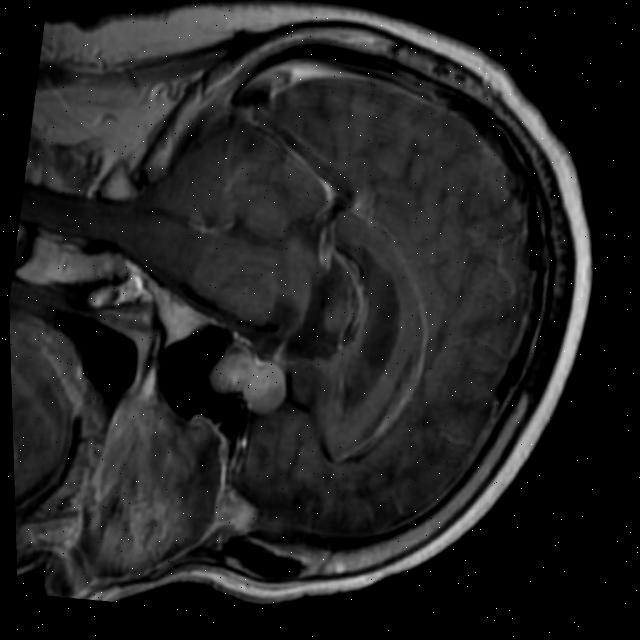Pituitary: (203, 335, 295, 422)
